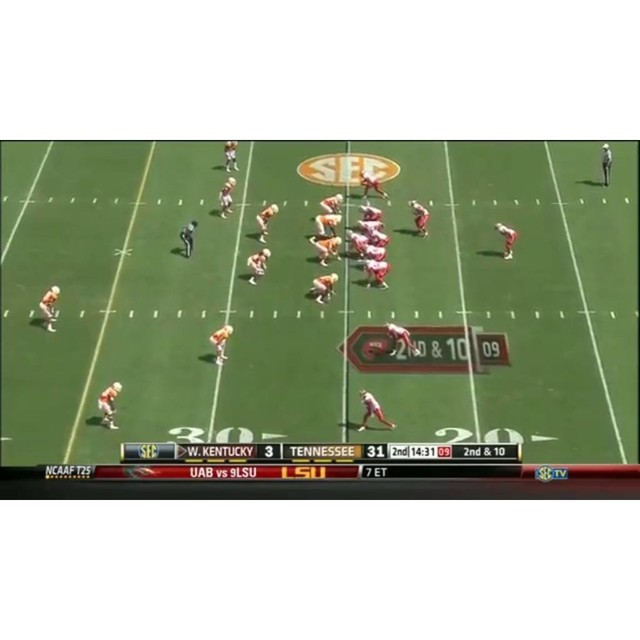american-football-player: (357, 388, 397, 432), (384, 321, 418, 360), (97, 381, 123, 430), (304, 273, 340, 307), (359, 168, 390, 203), (38, 285, 61, 332), (209, 324, 234, 365), (307, 214, 341, 244), (256, 201, 279, 243), (310, 237, 342, 267), (408, 200, 432, 240), (494, 222, 519, 260), (362, 260, 392, 291), (246, 249, 270, 285), (218, 176, 237, 219), (345, 229, 369, 262), (319, 193, 344, 216), (359, 202, 383, 224), (223, 141, 239, 172)
referee: (177, 220, 198, 259), (599, 144, 614, 188)
